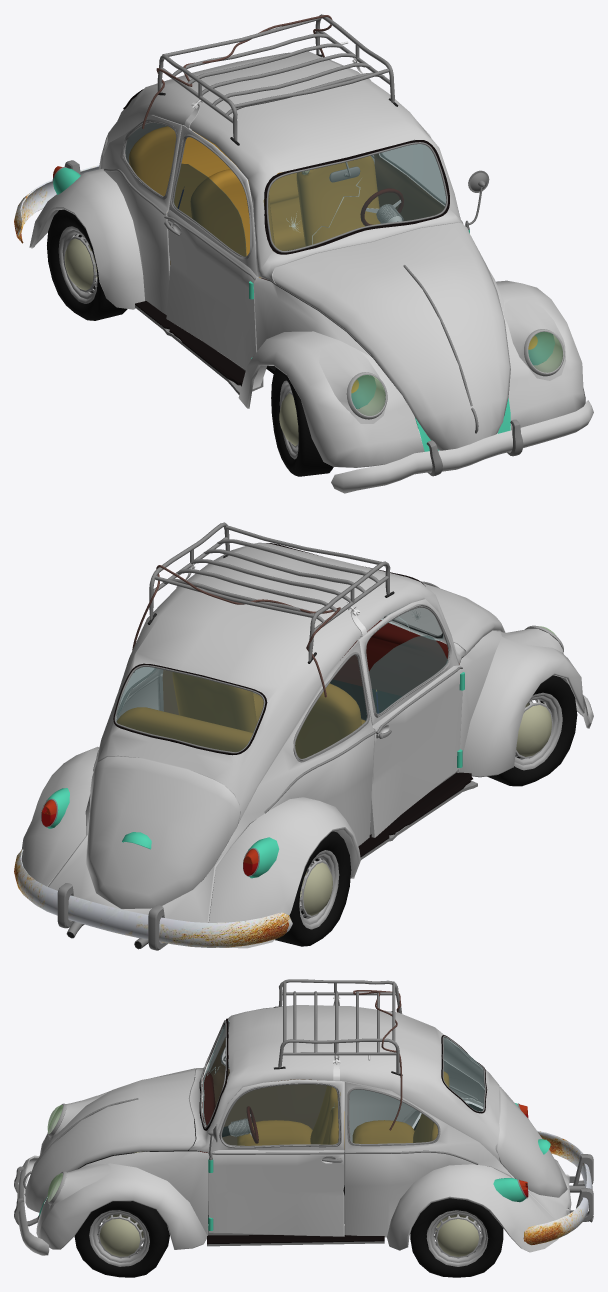
Rendered from car3.fbx.
The picture shows the model from 3 angles, top to bottom: view 1: azimuth 30°, elevation 25°; view 2: azimuth 150°, elevation 25°; view 3: azimuth 270°, elevation 25°; orthographic projection. The views are drawn at different scales.
Visible parts, largest first — view 1: Object041, Object078, Object039, Object221, Object049, Object047, Object230, Plane004, Object224, Box039, Box043, Box041 (+31 smaller); view 2: Object078, Object077, Object049, Object039, Object224, Object047, Object063, Plane006, Object154, Object228, Object048, Object222 (+33 smaller); view 3: Object078, Object226, Object041, Object132, Object230, Object229, Object228, Object077, Object049, Cylinder124, Cylinder123, Object224 (+27 smaller).
Part boxes in pixels (box(x1,y1,x2,y2)): Object041: box(272, 222, 510, 450); Object078: box(102, 51, 468, 284); Object039: box(238, 277, 424, 467); Object221: box(268, 144, 445, 250); Object049: box(166, 125, 258, 369); Object047: box(29, 169, 144, 309); Object230: box(488, 269, 585, 430); Plane004: box(331, 400, 593, 493); Object224: box(100, 115, 182, 314); Box039: box(296, 156, 380, 246); Box043: box(129, 126, 298, 217); Box041: box(190, 169, 274, 256); Object078: box(94, 542, 466, 822); Object077: box(86, 756, 240, 909); Object049: box(357, 599, 462, 837); Object039: box(457, 630, 584, 777); Object224: box(122, 640, 374, 922); Object047: box(208, 797, 360, 948); Object063: box(116, 667, 263, 751); Plane006: box(14, 849, 292, 947); Object154: box(330, 620, 459, 718); Object228: box(21, 746, 98, 886); Object048: box(295, 655, 366, 758); Object222: box(369, 635, 447, 713); Object078: box(189, 1005, 499, 1161); Object226: box(208, 1079, 344, 1236); Object041: box(25, 1068, 195, 1212); Object132: box(222, 1084, 437, 1145); Object230: box(36, 1151, 208, 1249); Object229: box(345, 1081, 571, 1237); Object228: box(387, 1164, 558, 1252); Object077: box(495, 1086, 567, 1197); Object049: box(209, 1037, 326, 1145); Cylinder124: box(410, 1198, 503, 1277); Cylinder123: box(74, 1201, 169, 1277); Object224: box(349, 1060, 571, 1202).
Bounding box in the file's own units: 41.27 × 40.27 × 94.86.
